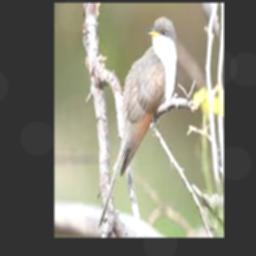Cuckoo: (98, 17, 178, 229)
